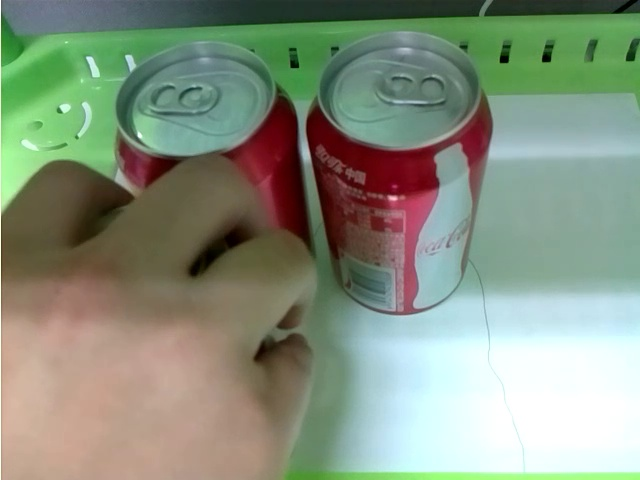cocacola: (310, 30, 495, 317), (112, 38, 309, 247)
hand: (1, 154, 315, 475)
